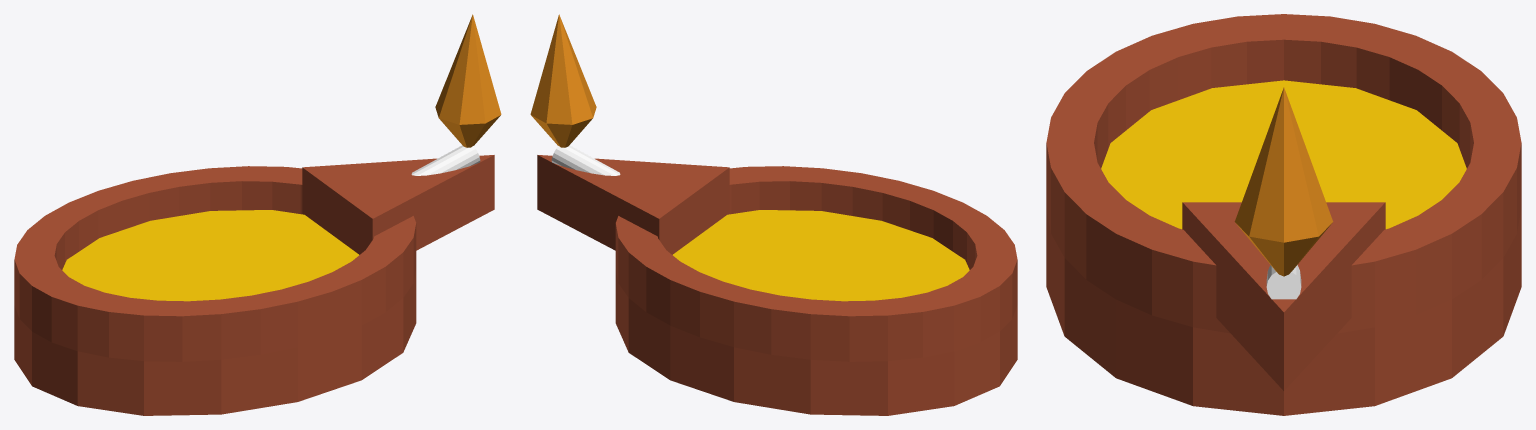
File: deepavali-oil-lamp.glb
3 renders of one model, left to right at view 1: azimuth 30°, elevation 25°; view 2: azimuth 150°, elevation 25°; view 3: azimuth 270°, elevation 25°, orthographic. The views are drawn at different scales.
Visible parts, largest first — view 1: Earthen_Rim, Bowl_Floor, Oil_Surface, Spout, Flame, Cotton_Wick; view 2: Earthen_Rim, Bowl_Floor, Oil_Surface, Spout, Flame, Cotton_Wick; view 3: Earthen_Rim, Bowl_Floor, Oil_Surface, Spout, Flame, Cotton_Wick.
Boxes of the visible parts, box(x1,y1,x2,y2) form: Earthen_Rim: box(14, 166, 416, 361); Bowl_Floor: box(14, 269, 416, 415); Oil_Surface: box(62, 210, 358, 301); Spout: box(302, 155, 494, 254); Flame: box(435, 14, 501, 147); Cotton_Wick: box(411, 145, 480, 175); Earthen_Rim: box(615, 166, 1017, 361); Bowl_Floor: box(615, 269, 1017, 415); Oil_Surface: box(673, 210, 969, 301); Spout: box(537, 155, 729, 254); Flame: box(530, 14, 596, 147); Cotton_Wick: box(551, 145, 620, 175); Earthen_Rim: box(1046, 14, 1521, 333); Bowl_Floor: box(1046, 209, 1521, 415); Oil_Surface: box(1101, 80, 1466, 229); Spout: box(1182, 202, 1385, 390); Flame: box(1234, 87, 1333, 276); Cotton_Wick: box(1266, 265, 1301, 299).
Size of the model in its own units: 0.267 by 0.145 by 0.1638.
